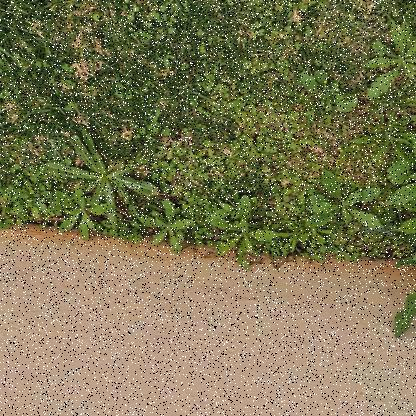Weeds: (45, 131, 159, 230), (206, 190, 280, 272), (392, 129, 415, 341), (360, 17, 415, 102), (307, 169, 382, 231), (50, 186, 110, 240), (138, 200, 192, 255), (301, 67, 359, 115)
